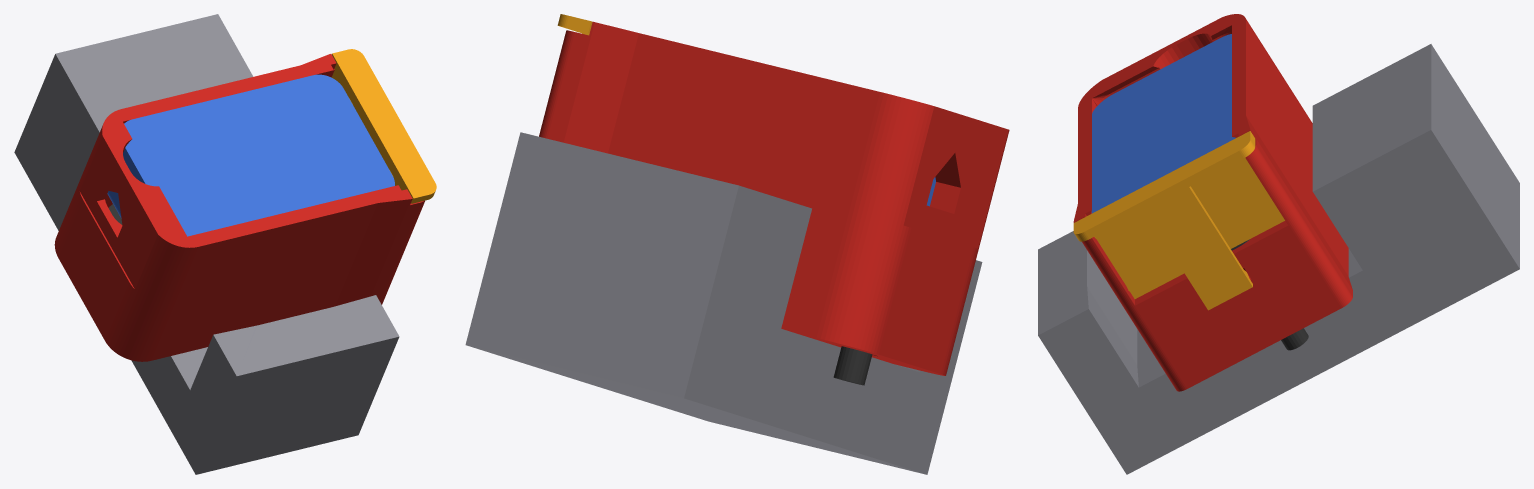
Rendered from dragy_assembly_v12.obj.
The picture shows the model from 3 angles, left to right: view 1: azimuth 30°, elevation 25°; view 2: azimuth 150°, elevation 25°; view 3: azimuth 270°, elevation 25°; orthographic projection. The views are drawn at different scales.
Visible parts, largest first — view 1: front_swingarm_pad_schematic, dragy_holder, dragy, gate; view 2: front_swingarm_pad_schematic, dragy_holder, screws; view 3: front_swingarm_pad_schematic, dragy_holder, gate, dragy.
Boxes of the visible parts, x1=… form: front_swingarm_pad_schematic: x1=14, y1=14, x2=399, y2=474; dragy_holder: x1=54, y1=54, x2=424, y2=361; dragy: x1=107, y1=74, x2=394, y2=236; gate: x1=331, y1=49, x2=436, y2=203; front_swingarm_pad_schematic: x1=465, y1=132, x2=982, y2=474; dragy_holder: x1=539, y1=21, x2=1009, y2=375; screws: x1=833, y1=346, x2=872, y2=385; front_swingarm_pad_schematic: x1=1038, y1=44, x2=1519, y2=474; dragy_holder: x1=1073, y1=14, x2=1352, y2=391; gate: x1=1073, y1=131, x2=1284, y2=310; dragy: x1=1091, y1=34, x2=1235, y2=213.
Size of the model in its own units: 52.55 by 61.69 by 74.76.
